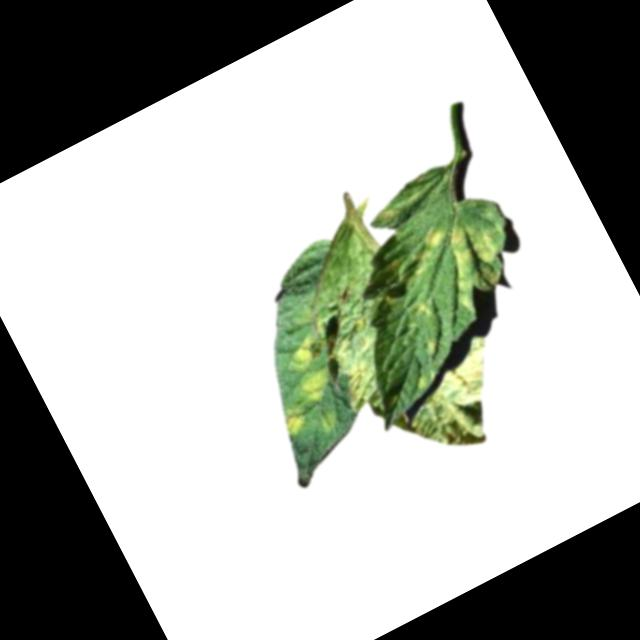Leaf_Mold: (397, 196, 523, 328), (399, 343, 530, 467), (314, 297, 409, 412), (283, 332, 345, 411), (278, 405, 314, 440)
